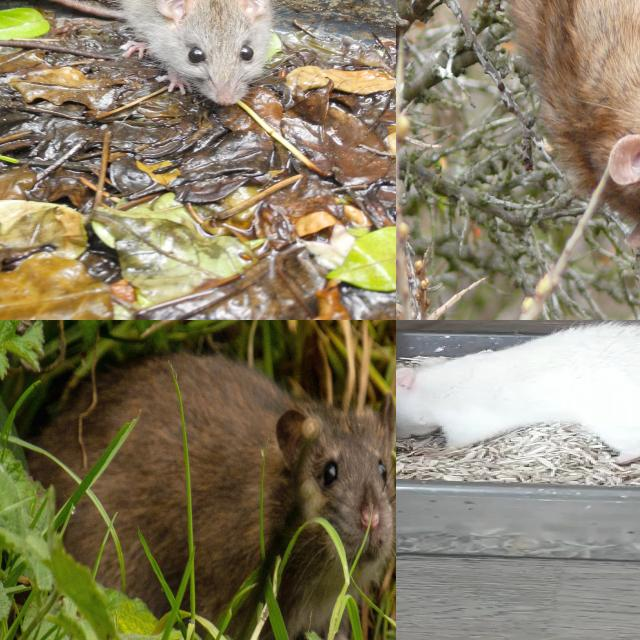rat: (67, 354, 396, 604), (501, 0, 640, 244), (396, 325, 640, 461), (129, 0, 264, 105)
